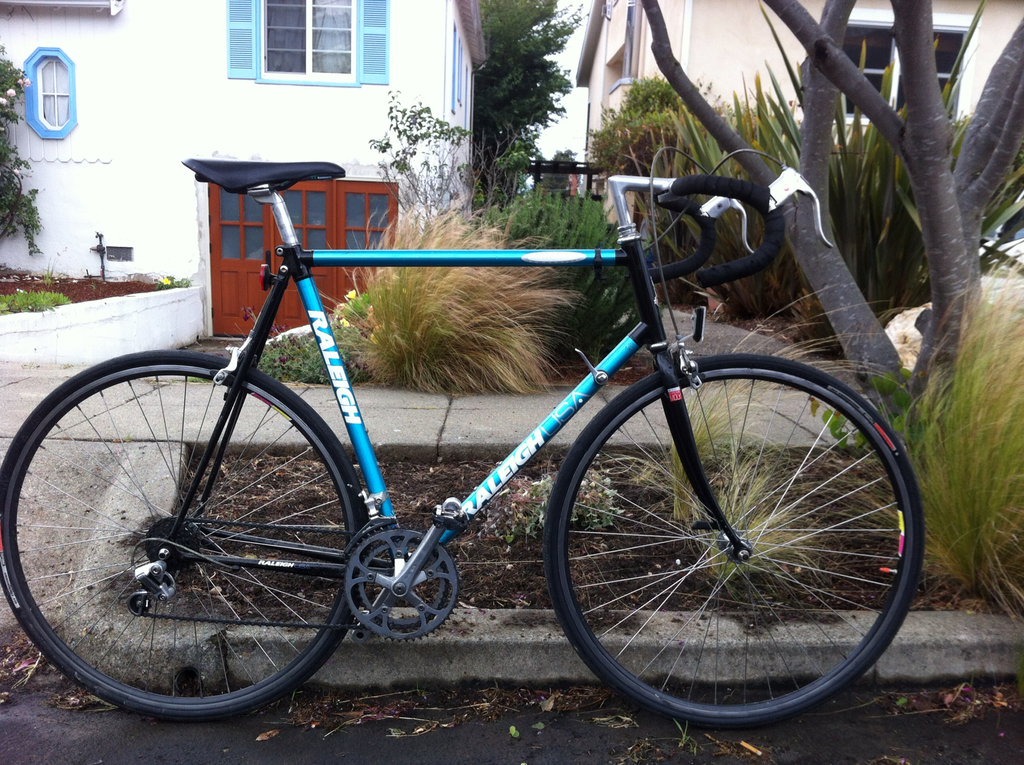Bike: (23, 147, 939, 763)
